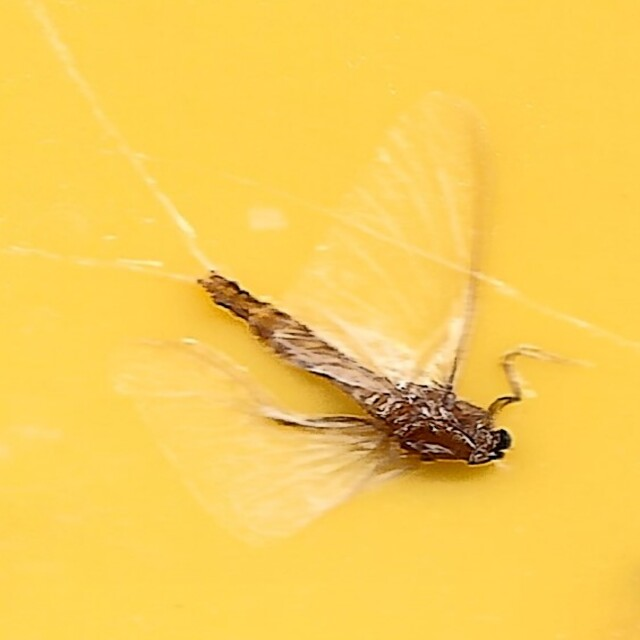Ephemeroptera: (113, 99, 527, 541)
